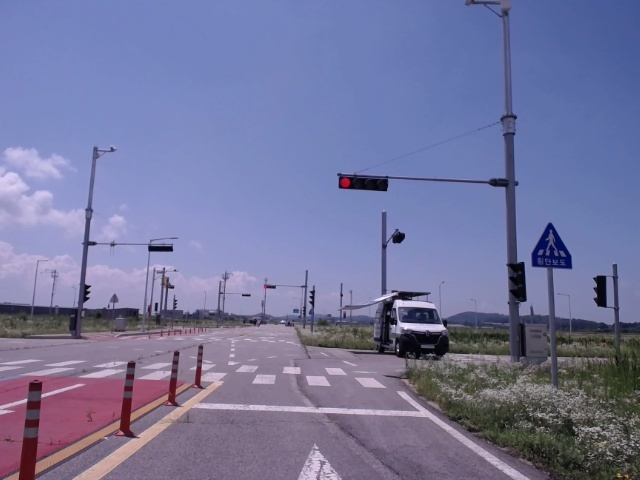red_4: (339, 177, 388, 192)
